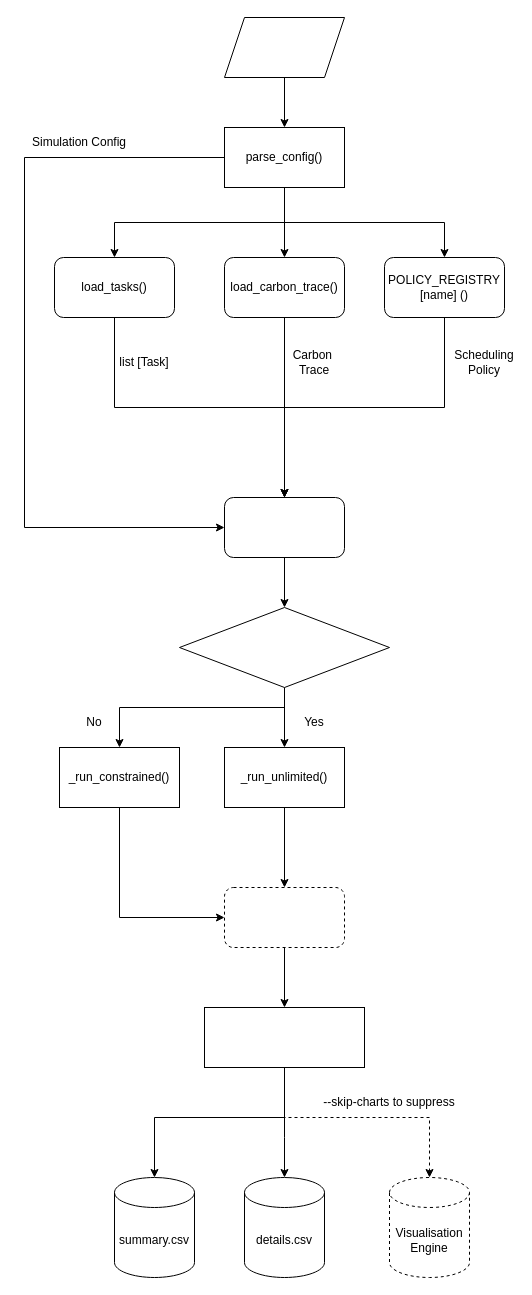
The diagram is 532 pixels wide and 1295 high, and some of its shapes have lost their labels. Each missing label, with the box of its shape:
AccountingEngine.finalise(): (204, 1006, 364, 1068)
CLI Arguments: (224, 16, 344, 78)
reserved_cpu_capacity == 0?: (178, 606, 390, 688)
run_simulation(): (224, 496, 344, 558)
Tick Loop: (224, 886, 344, 948)
